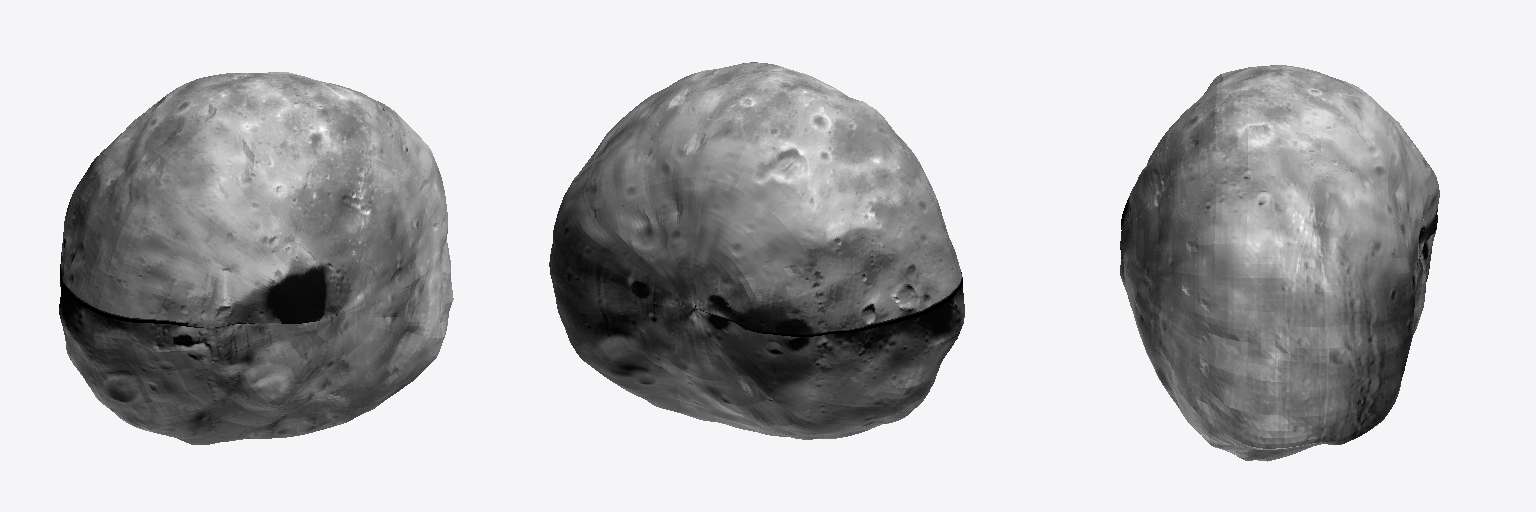
3 views of the same model, side by side, from view 1: azimuth 30°, elevation 25°; view 2: azimuth 150°, elevation 25°; view 3: azimuth 270°, elevation 25° (orthographic).
Size of the model in its own units: 26.04 by 23.37 by 19.4.
Materials: 1 (1 with a texture image).